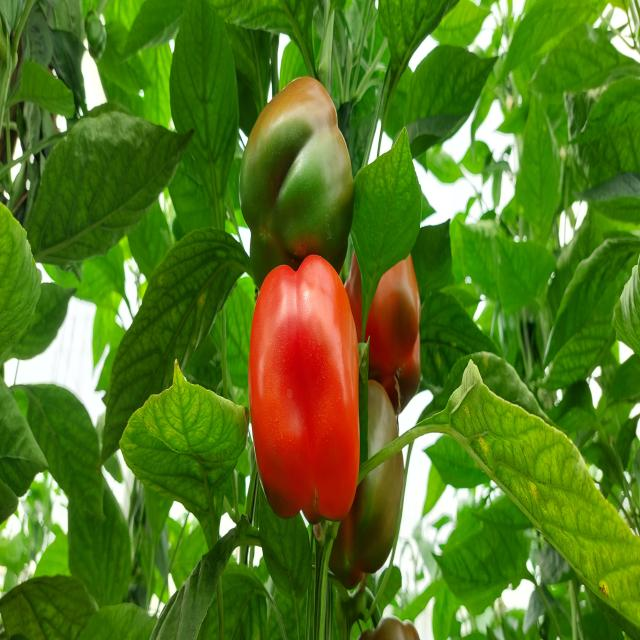Red-Ready-to-Harvest: (250, 273, 362, 530), (239, 58, 356, 266), (357, 210, 426, 402)
